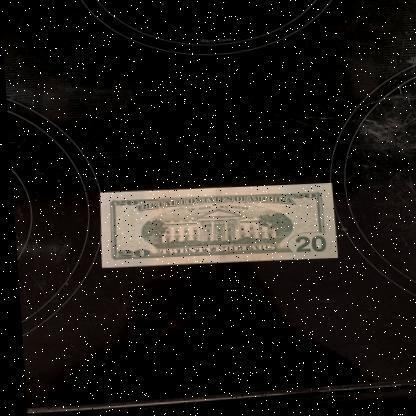twenty-back: (95, 186, 335, 270)
